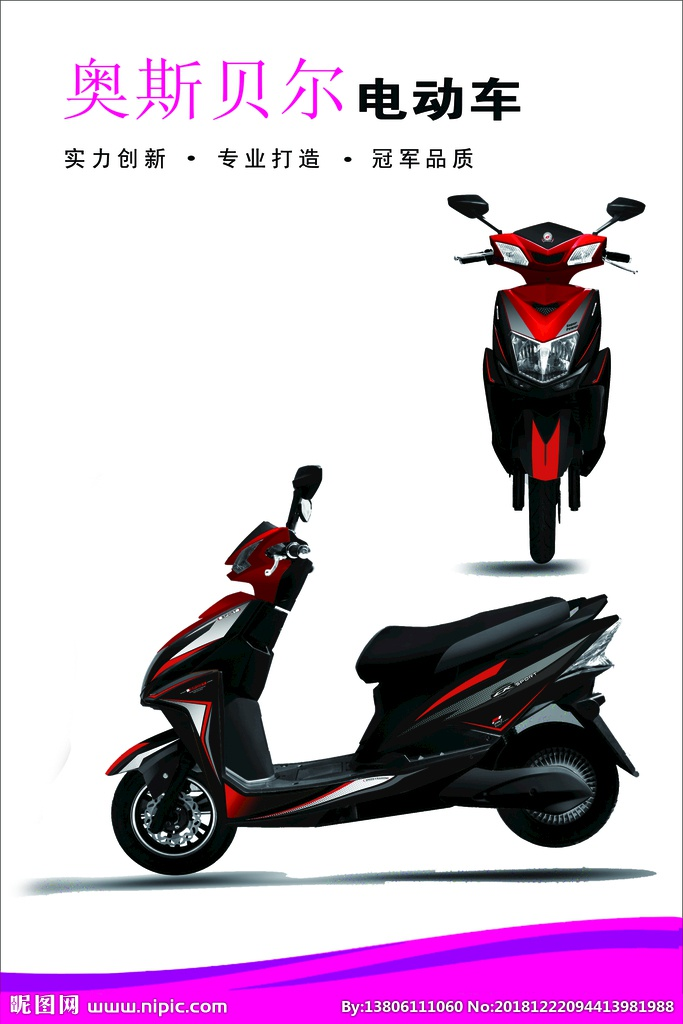non-vehicle: (106, 514, 636, 857), (443, 184, 649, 561)
